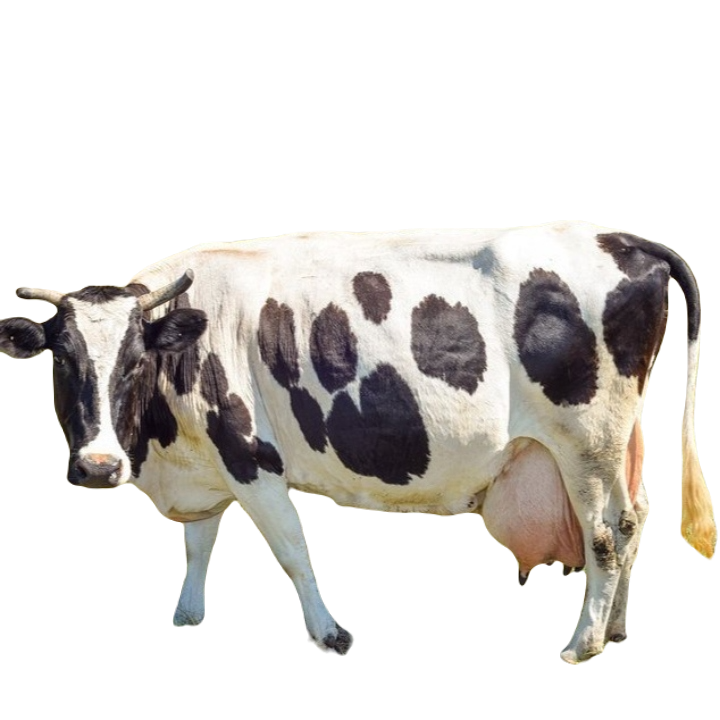Cow: (0, 225, 719, 660)
